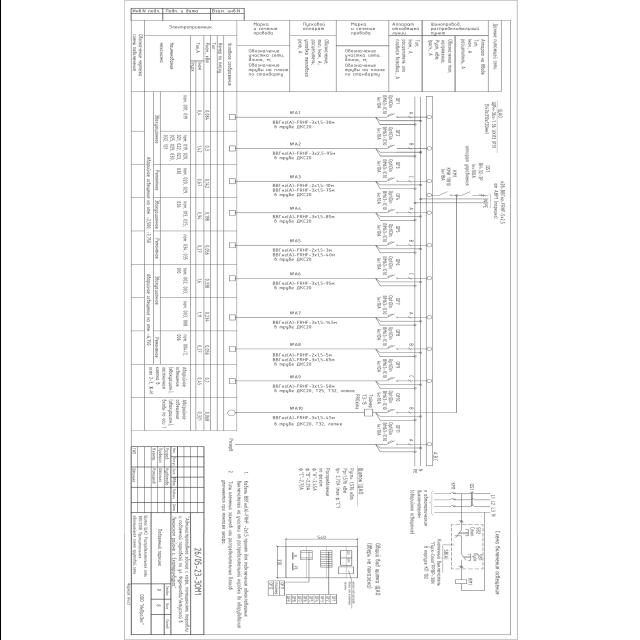-: (483, 101, 503, 150), (438, 168, 458, 188), (374, 390, 394, 410), (375, 222, 393, 242), (374, 190, 392, 210), (374, 422, 392, 442), (374, 94, 392, 114), (375, 126, 393, 146), (374, 159, 392, 179), (374, 295, 392, 315), (374, 326, 392, 346), (374, 256, 392, 276), (375, 358, 393, 378), (469, 162, 484, 182), (354, 394, 373, 409)
KM: (437, 191, 453, 197)
QF: (385, 440, 411, 446), (384, 409, 410, 415), (384, 345, 410, 351), (384, 314, 410, 320), (384, 274, 410, 280), (384, 242, 410, 248), (384, 208, 410, 214), (384, 178, 410, 184), (384, 144, 410, 150), (384, 113, 410, 119), (384, 377, 410, 382)
QS: (460, 191, 472, 197)
Timer: (362, 408, 372, 416)
